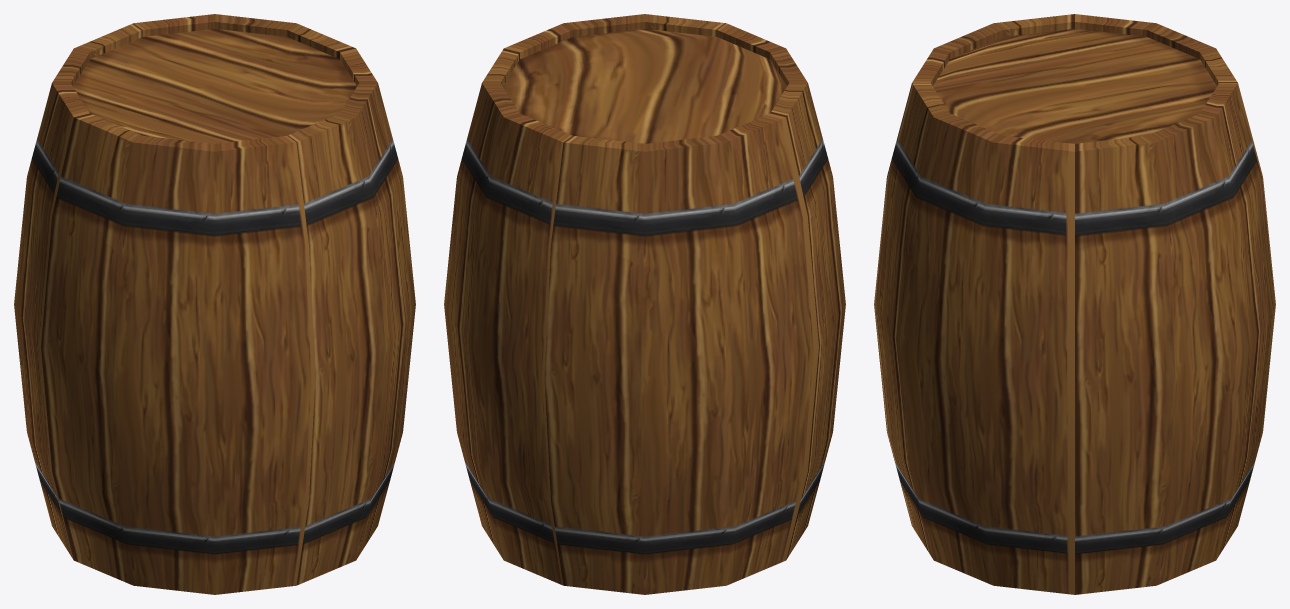
File: Barrel01.FBX
3 renders of one model, left to right at view 1: azimuth 30°, elevation 25°; view 2: azimuth 150°, elevation 25°; view 3: azimuth 270°, elevation 25°, orthographic.
Visible parts, largest first — view 1: Barrel_1; view 2: Barrel_1; view 3: Barrel_1.
Boxes of the visible parts, x1,y1,x2,y2 form: Barrel_1: [14, 14, 415, 594]; Barrel_1: [444, 14, 845, 594]; Barrel_1: [874, 14, 1275, 594].
Size of the model in its own units: 461 by 560 by 461.
